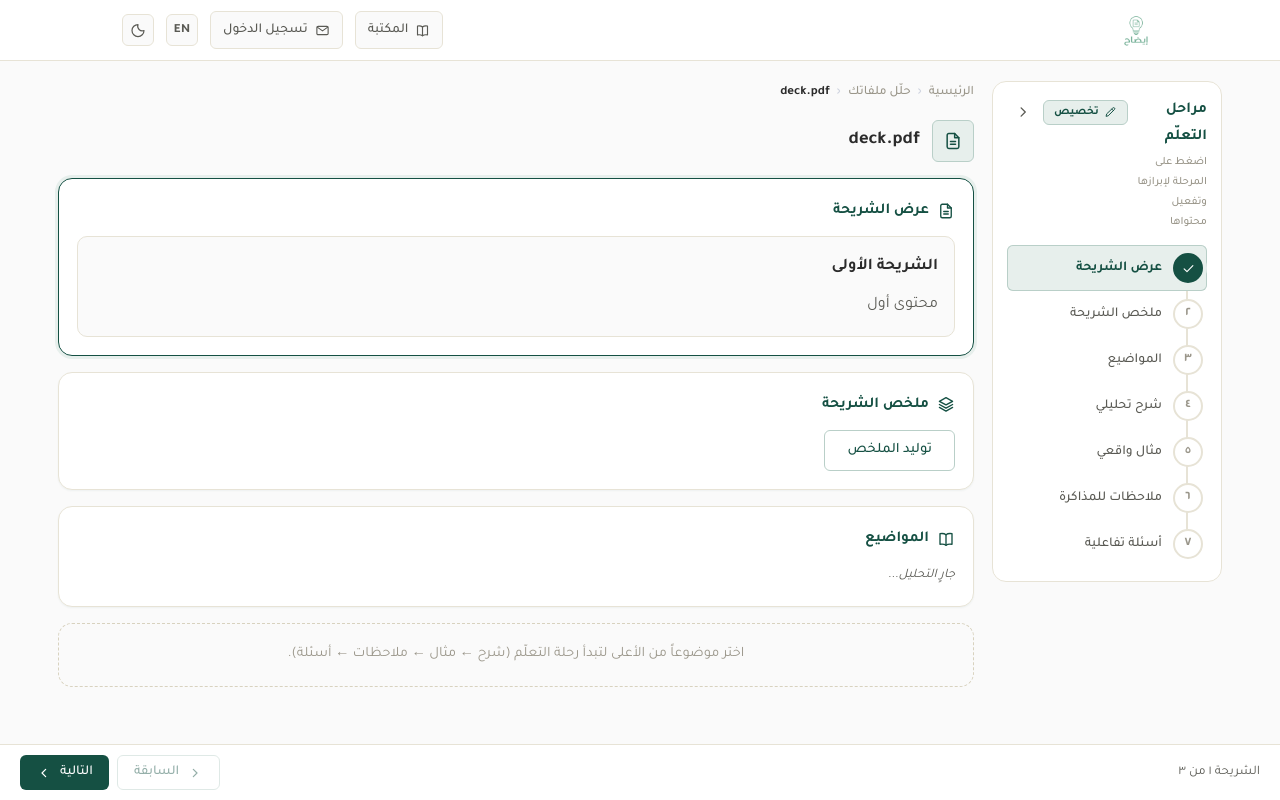
Scenario: customize lets the student hide an optional stage (core stages locked)
The width and height of the screenshot is (1280, 800).
Click the button "تخصيص" at (1085, 112), box x1=1043 y1=100 x2=1128 y2=124
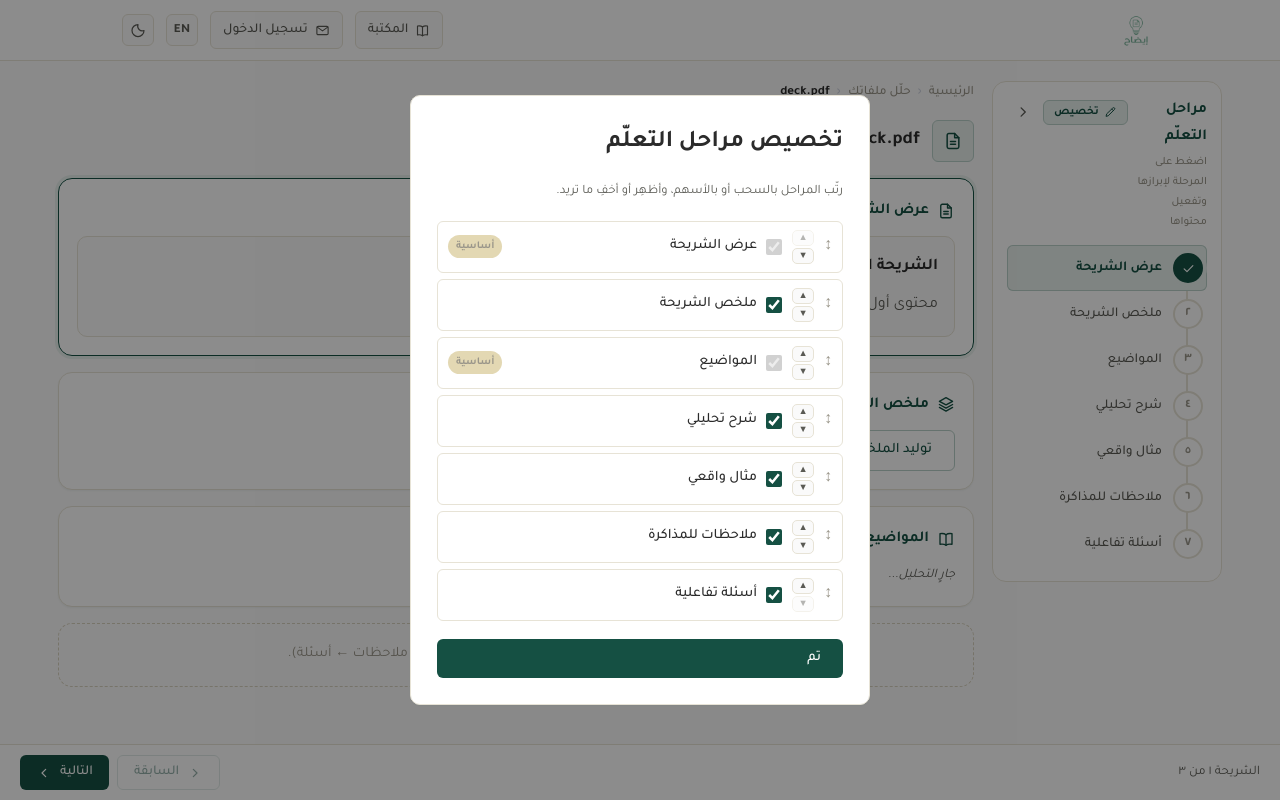
Now the checkbox labelled "عرض الشريحة" is disabled, box x1=766 y1=239 x2=782 y2=255
إخفاء مرحلة اختيارية
Click the checkbox labelled "ملخص الشريحة" at (774, 305), box x1=766 y1=297 x2=782 y2=313
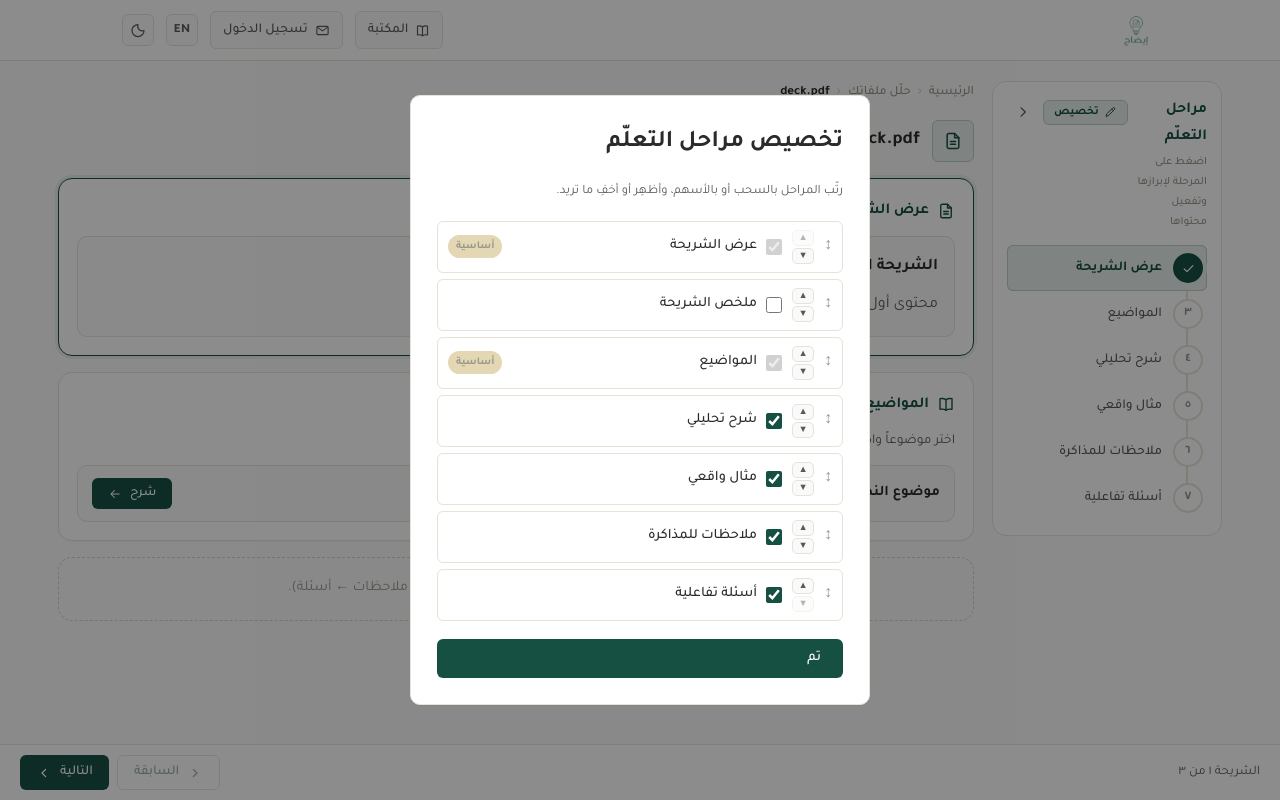
Now the number of buttons with class "an-stage-btn" is 6, box x1=1007 y1=245 x2=1207 y2=291; x1=1007 y1=291 x2=1207 y2=337; x1=1007 y1=337 x2=1207 y2=383; x1=1007 y1=383 x2=1207 y2=429; x1=1007 y1=429 x2=1207 y2=475; x1=1007 y1=475 x2=1207 y2=521
